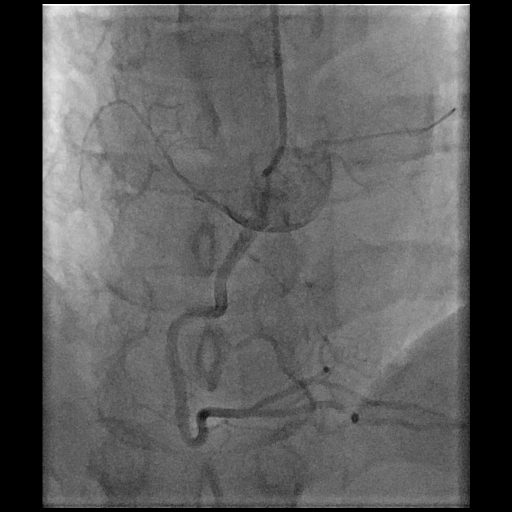RCA: (167, 178, 359, 450)
catherter: (262, 5, 287, 178)
